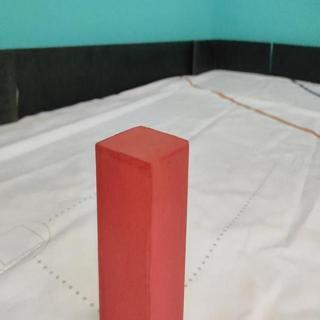redbox: (95, 126, 189, 320)
